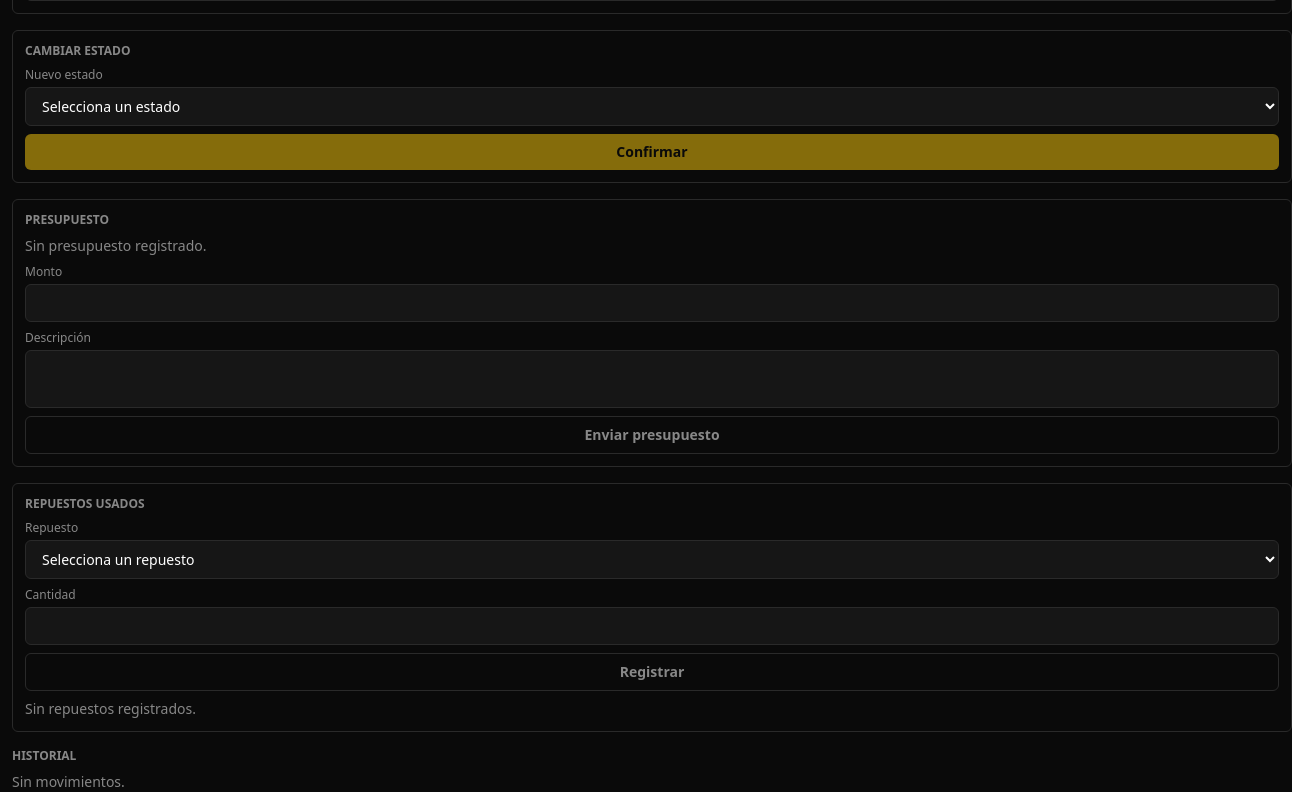
Scenario: EquipmentDetailPage › stock insuficiente al registrar un repuesto muestra el mensaje de error
(page scrolled)
Select "Fusible 5A (stock: 10)" in the dropdown labelled "Repuesto" at (652, 560), box [25,540,1279,579]
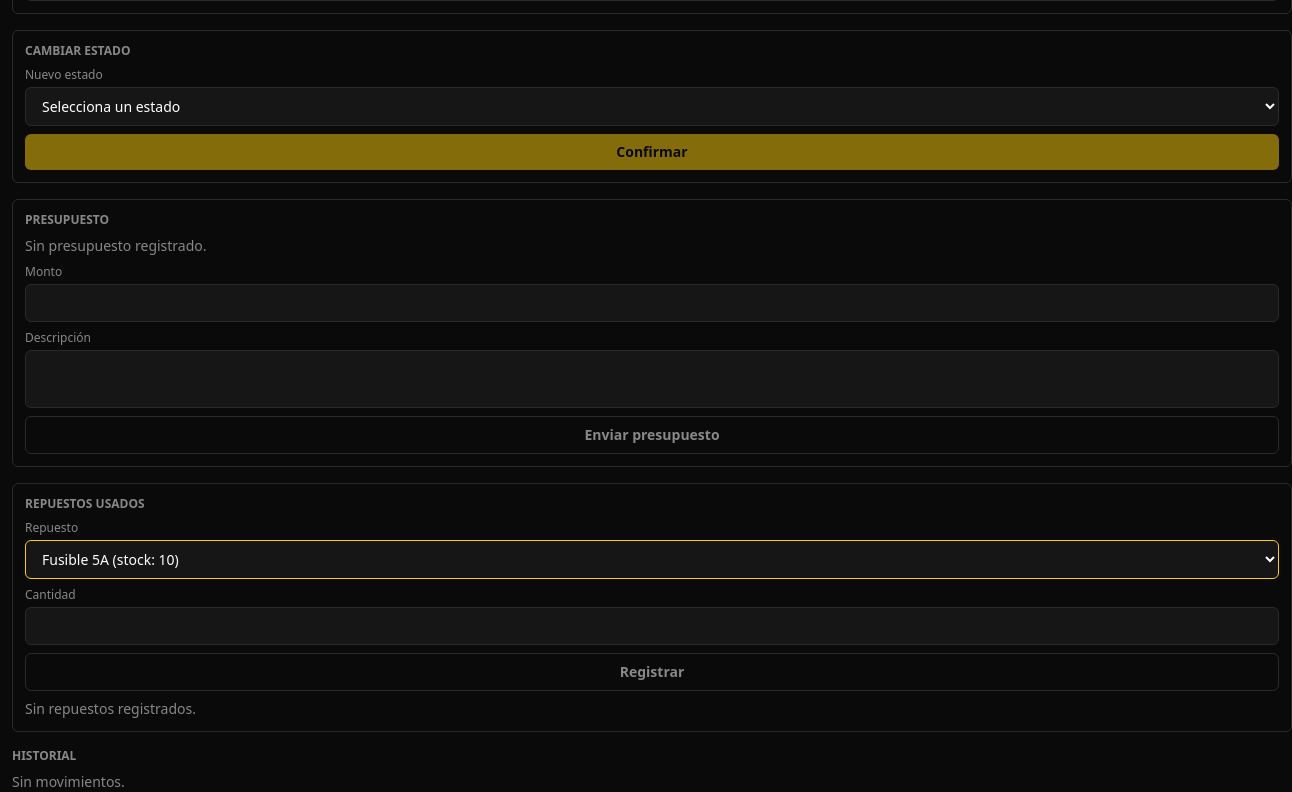
Type "100" into the number field labelled "Cantidad" at (652, 626), box [25,607,1279,645]
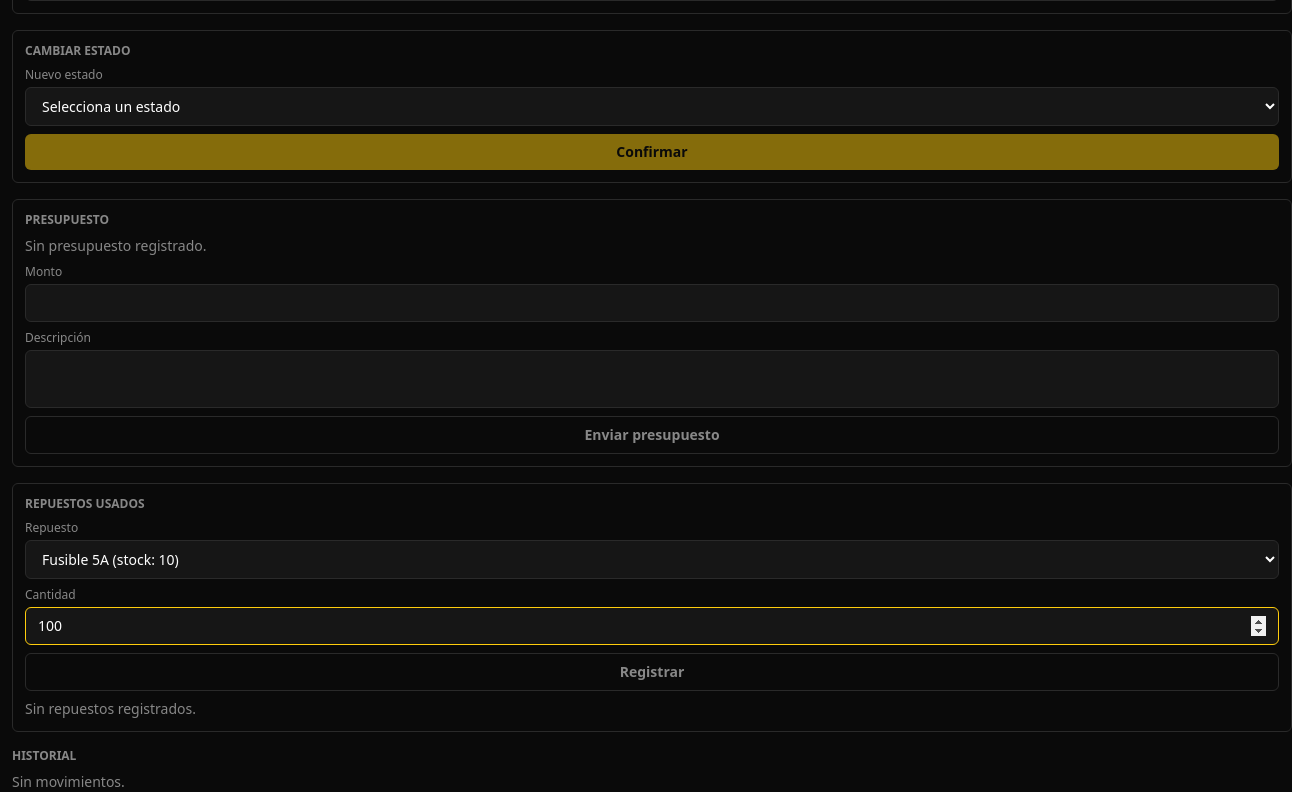
Click the button "Registrar" at (652, 672), box [25,653,1279,691]
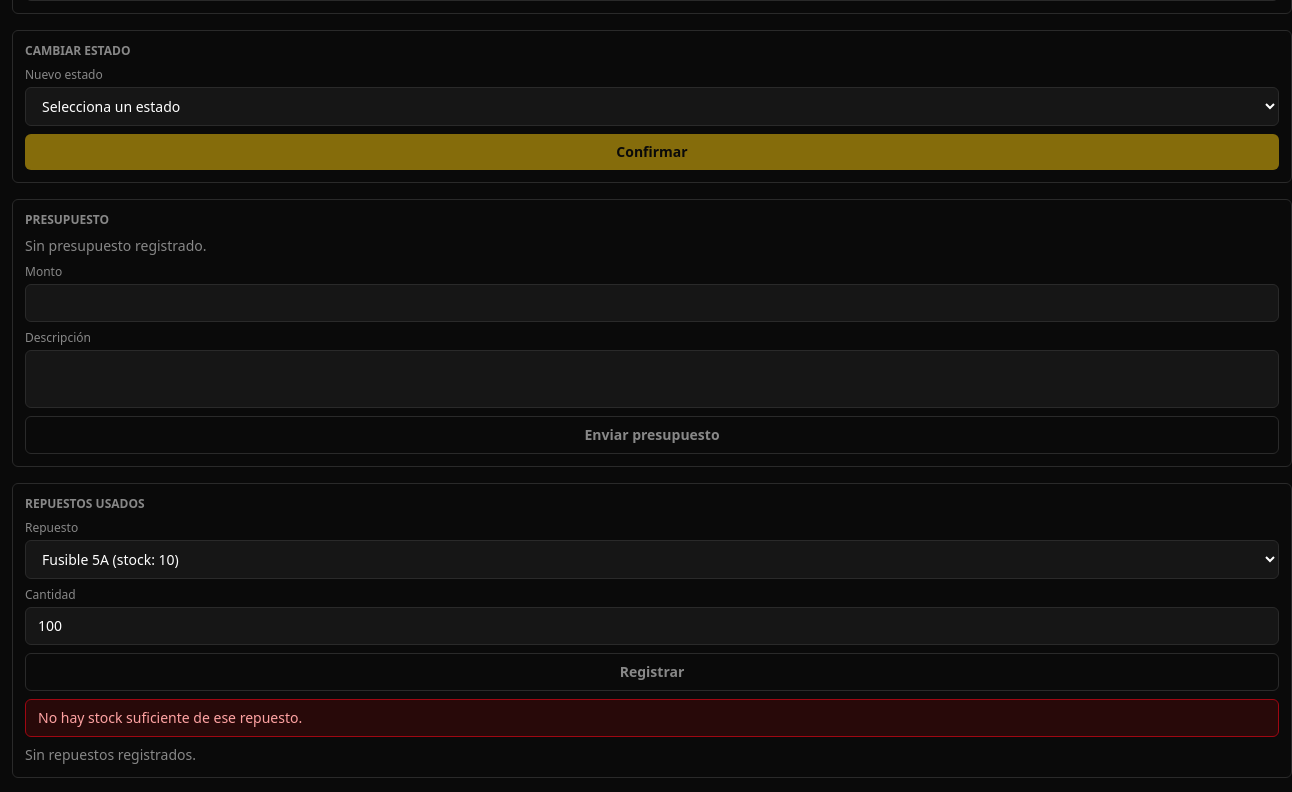
Expected: the text "No hay stock suficiente de ese repuesto." is shown, [25,699,1279,737]
